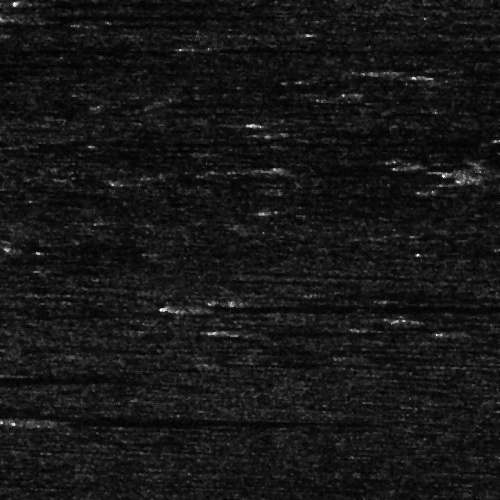object: (124, 301, 249, 310), (0, 415, 75, 426), (4, 10, 87, 19), (193, 327, 266, 336), (376, 67, 429, 72), (8, 0, 71, 4), (476, 132, 500, 139)
shadow: (28, 415, 332, 426), (187, 301, 500, 310), (46, 10, 260, 19), (0, 379, 167, 388), (229, 327, 390, 336), (0, 372, 116, 383), (39, 0, 182, 4), (0, 367, 70, 374), (402, 67, 480, 72), (252, 330, 413, 331)
